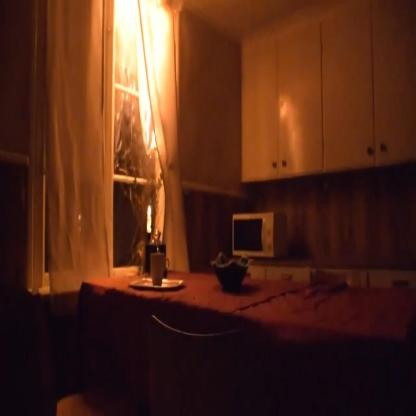fire: (115, 0, 178, 159), (147, 204, 152, 217)
